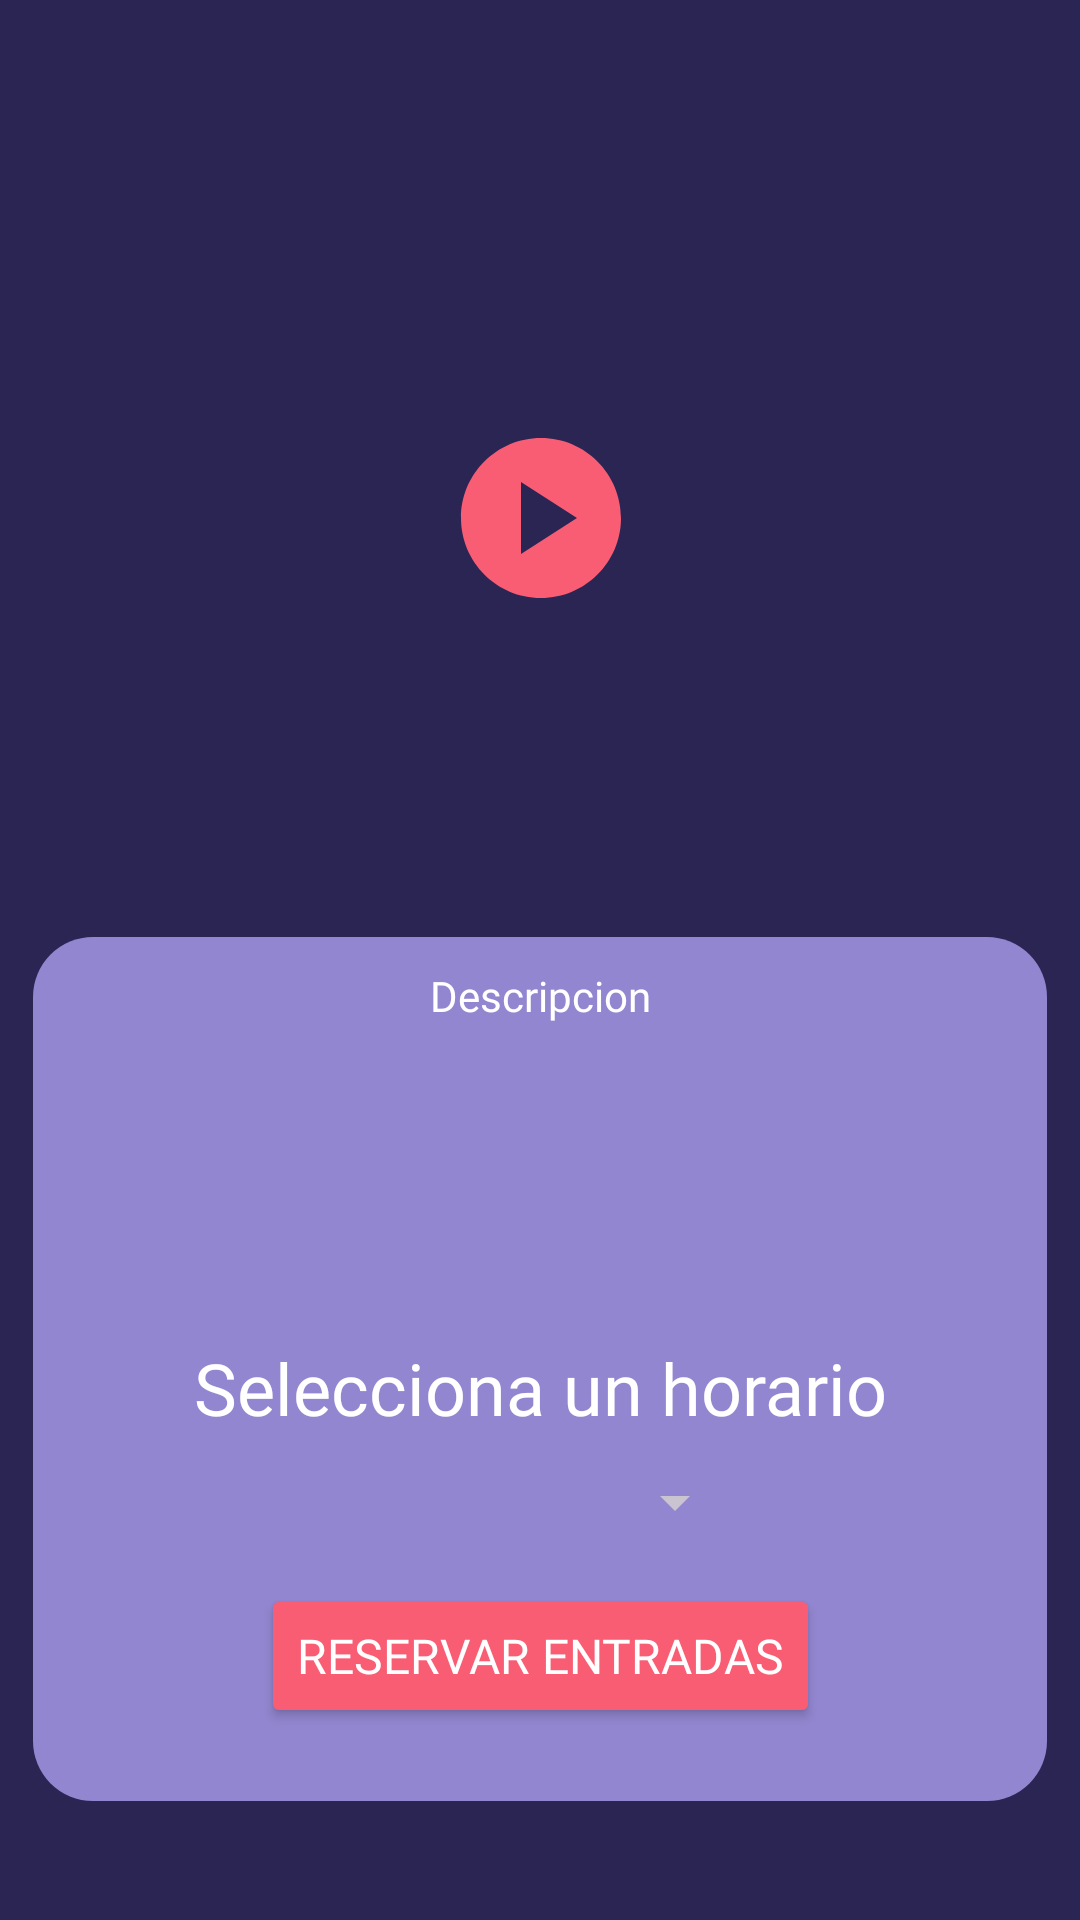

Icon click points for this 1080w x 1920h phone screenshot, format (x,y):
play: (541,518)
